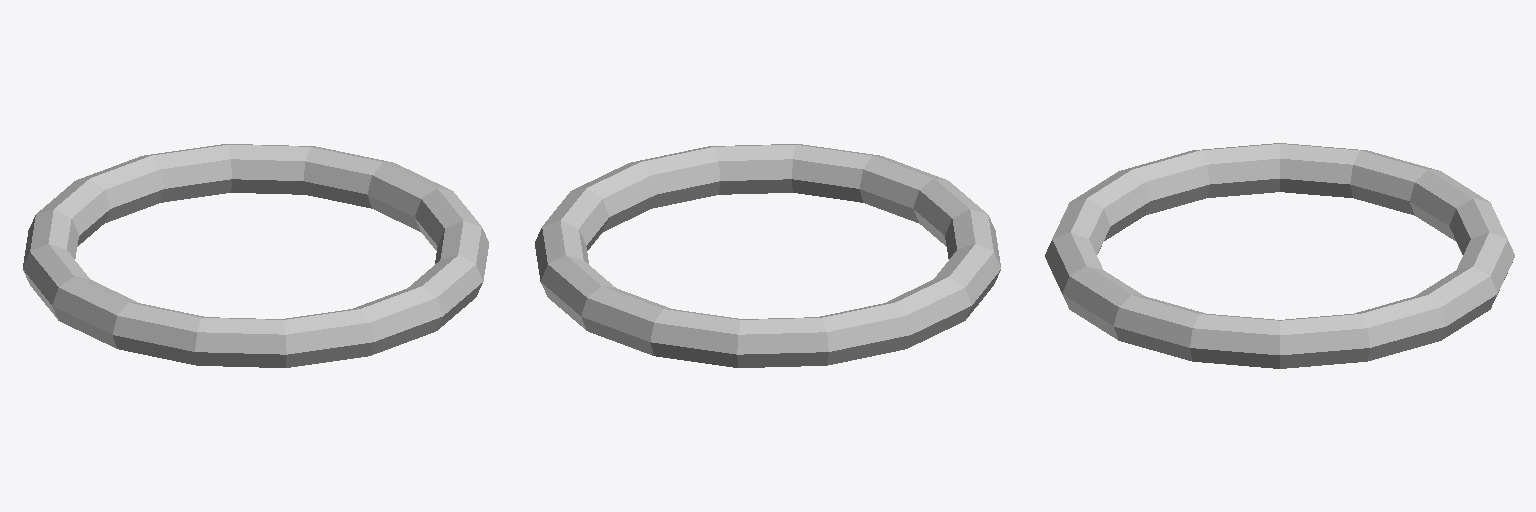
File: Top.obj
The picture shows the model from 3 angles: view 1: azimuth 30°, elevation 25°; view 2: azimuth 150°, elevation 25°; view 3: azimuth 270°, elevation 25°; orthographic projection.
Visible parts, largest first — view 1: Torus; view 2: Torus; view 3: Torus.
Boxes of the visible parts, <box> form: Torus: <box>23,144,488,367</box>; Torus: <box>535,144,1000,367</box>; Torus: <box>1045,143,1514,368</box>.
Size of the model in its own units: 2.25 by 0.25 by 2.25.